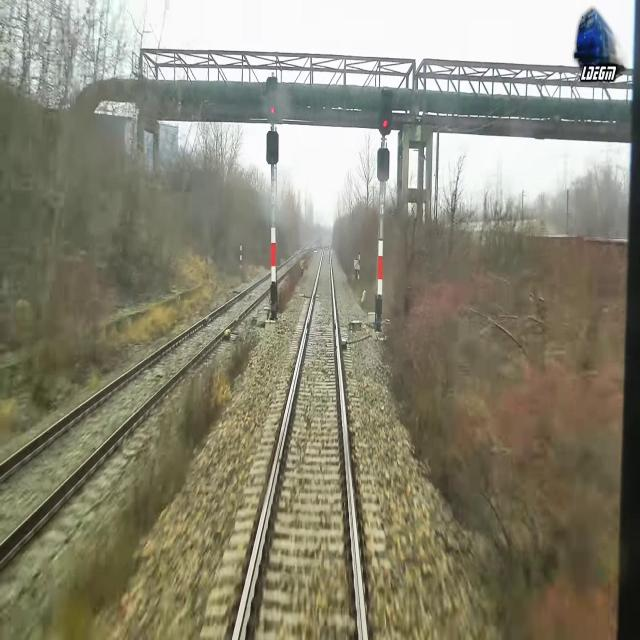rail-track: (0, 273, 270, 542), (238, 246, 363, 639)
